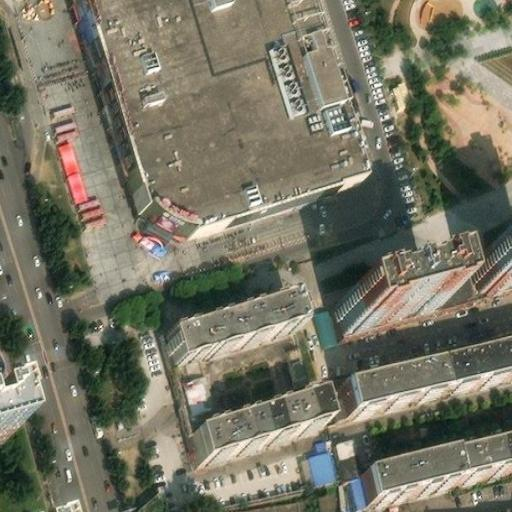building: (75, 0, 354, 221), (342, 345, 512, 416), (330, 237, 512, 303), (160, 295, 293, 361), (190, 392, 322, 457), (334, 274, 438, 332), (360, 453, 455, 502), (169, 351, 223, 430), (52, 134, 89, 204), (449, 441, 512, 481), (211, 491, 317, 512), (468, 252, 512, 292), (311, 439, 337, 486), (340, 472, 367, 509)
